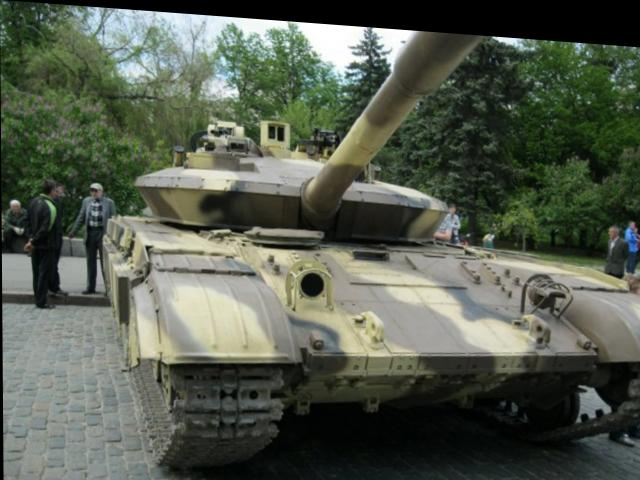other: (28, 179, 55, 306), (81, 174, 112, 283), (1, 192, 26, 260), (601, 212, 626, 267), (621, 201, 640, 258), (442, 199, 466, 234)
tank: (95, 100, 640, 463)
